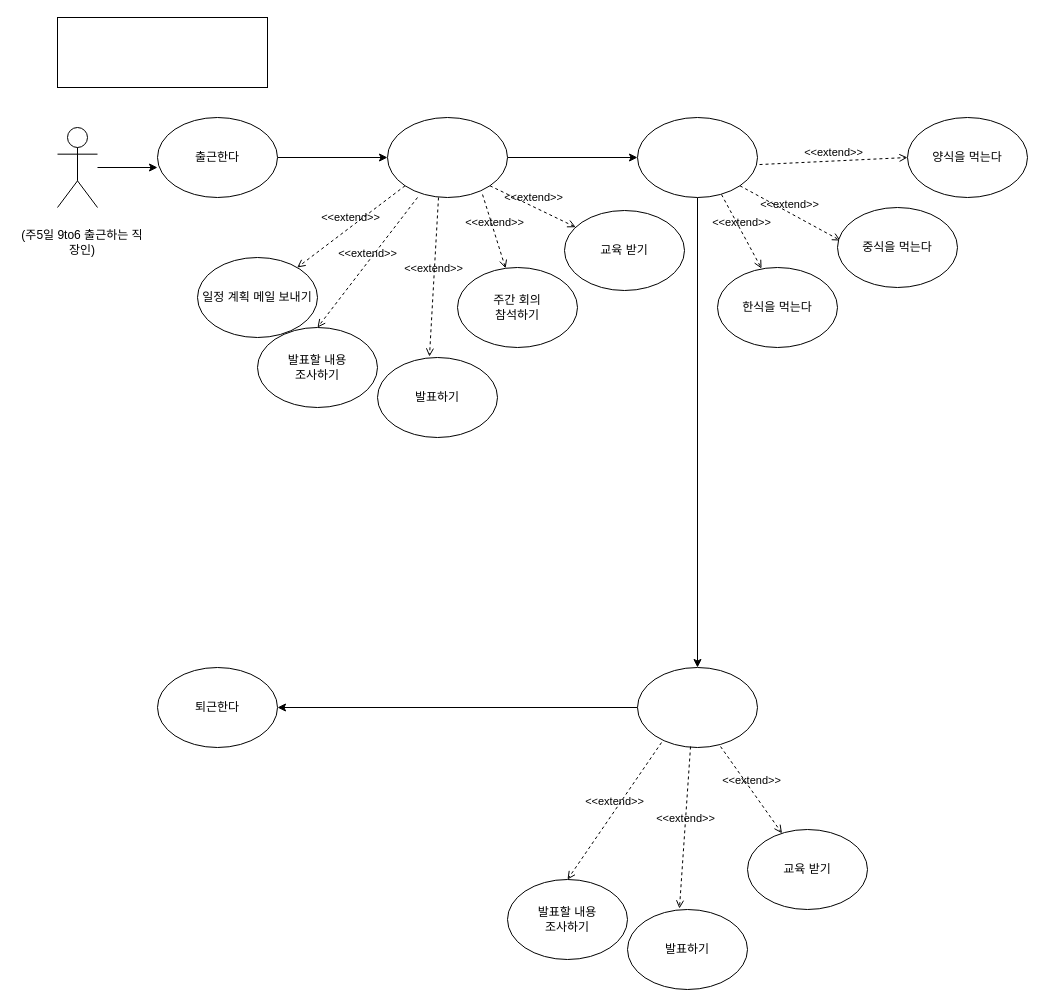
The diagram is 1045 pixels wide and 1007 high, and some of its shapes have lost their labels. The shapes that lost their labels are listed below. From the top down, each one's box as (x1, y1, x2, y2) in pixels, then its label:
(56, 16, 268, 88): 주제 : 하루 일과 계획
(56, 126, 98, 208): Actor
(386, 116, 508, 198): 오전 업무를 본다
(636, 116, 758, 198): 점심을 먹는다
(636, 666, 758, 748): 오후 업무를 본다
